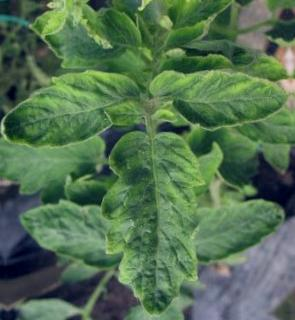Tomato leaf yellow virus: (104, 122, 211, 302), (0, 58, 143, 151), (13, 195, 144, 280), (148, 54, 280, 132), (186, 183, 287, 267)
